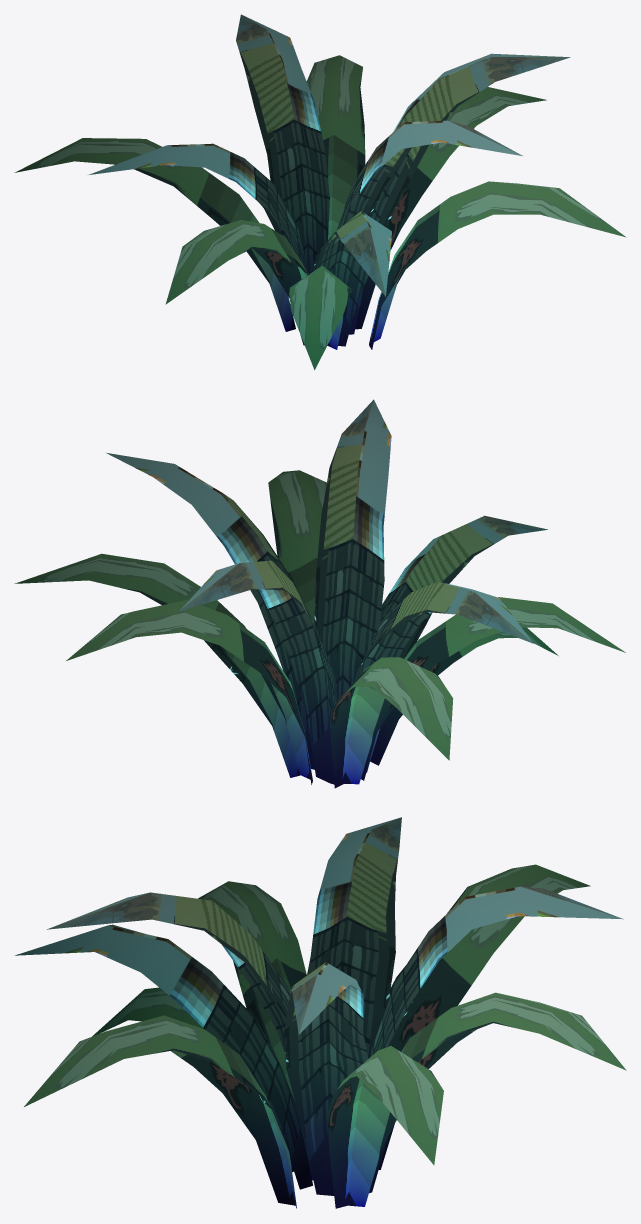
File: trp_fern2.glb
3 renders of one model, top to bottom at view 1: azimuth 30°, elevation 25°; view 2: azimuth 150°, elevation 25°; view 3: azimuth 270°, elevation 25°, orthographic. The views are drawn at different scales.
Visible parts, largest first — view 1: SM_Env_Fern_02_LOD0; view 2: SM_Env_Fern_02_LOD0; view 3: SM_Env_Fern_02_LOD0.
Boxes of the visible parts, x1,y1,x2,y2 form: SM_Env_Fern_02_LOD0: [14, 14, 626, 370]; SM_Env_Fern_02_LOD0: [14, 399, 625, 788]; SM_Env_Fern_02_LOD0: [15, 817, 626, 1208].
Size of what is drawn, in the model's own units: 3.01 by 1.58 by 2.7.
Materials: 1 (1 with a texture image).
